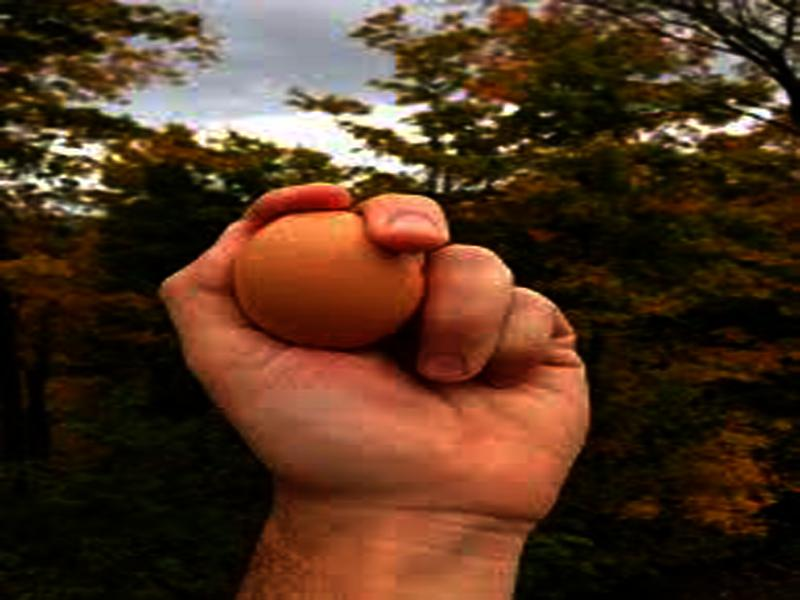Eggs: (235, 211, 433, 347)
